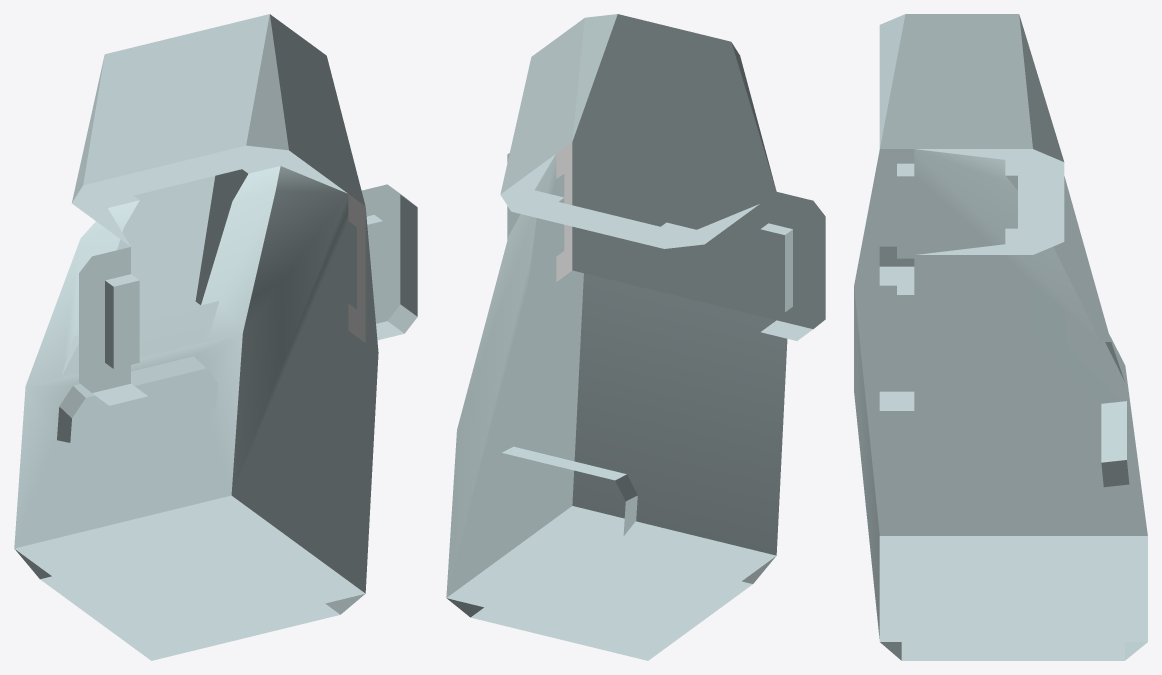
Rendered from stone_statue.glb.
3 renders of one model, left to right at view 1: azimuth 30°, elevation 25°; view 2: azimuth 150°, elevation 25°; view 3: azimuth 270°, elevation 25°, orthographic. The views are drawn at different scales.
Visible parts, largest first — view 1: stone_statue; view 2: stone_statue; view 3: stone_statue.
Boxes of the visible parts, <box> form: stone_statue: <box>14,14,417,660</box>; stone_statue: <box>446,14,825,660</box>; stone_statue: <box>854,14,1147,660</box>.
Bounding box in the file's own units: 5.19 × 8.64 × 4.11.
